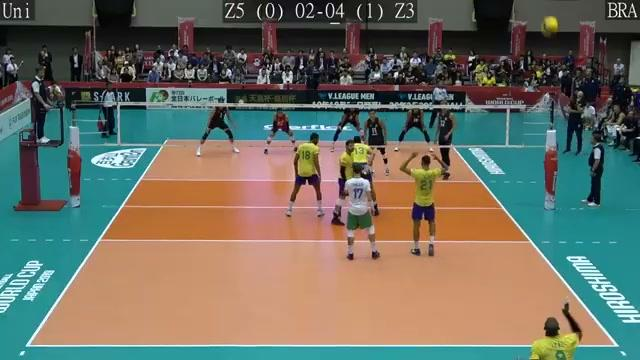ball: (540, 14, 561, 36)
